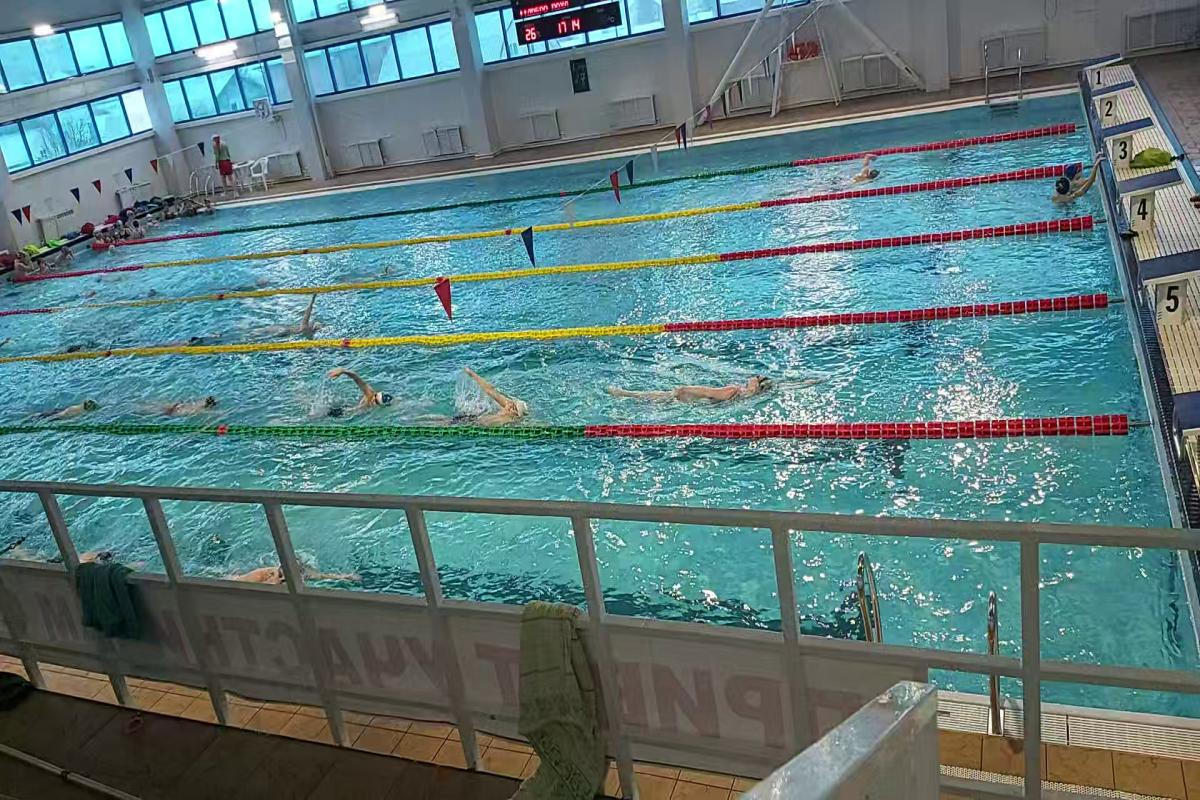swimmer: (602, 354, 812, 415), (434, 364, 540, 424), (308, 358, 398, 421), (209, 553, 342, 589), (13, 533, 144, 567), (144, 392, 224, 421), (260, 307, 328, 340), (38, 392, 108, 424), (853, 153, 886, 183)
